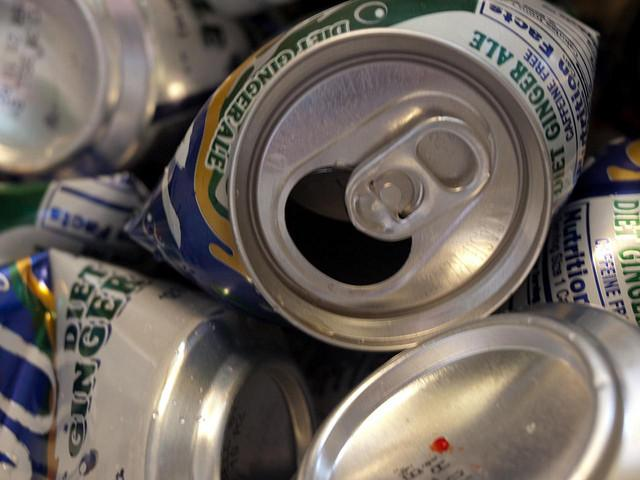metal: (140, 0, 602, 330), (0, 243, 303, 480), (299, 298, 640, 480), (0, 0, 233, 177)
